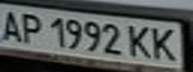1: (42, 15, 66, 48)
2: (100, 20, 127, 57)
9: (60, 16, 84, 51), (81, 18, 103, 54)
A: (0, 7, 27, 43)
K: (148, 25, 184, 63), (124, 21, 157, 61)
P: (15, 10, 45, 45)
